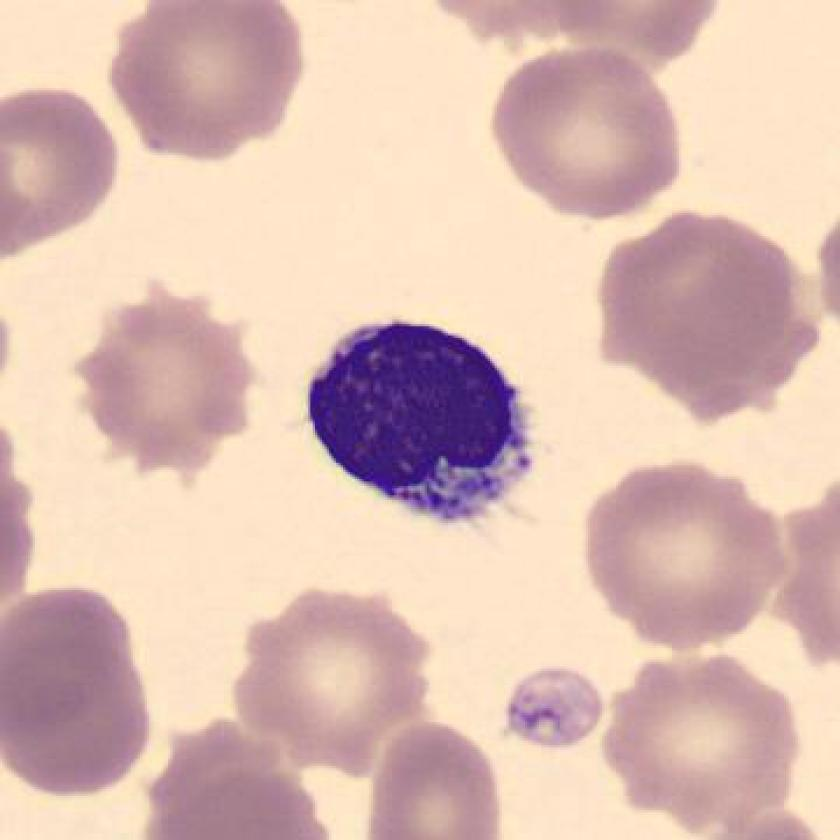lymphocyte: (298, 309, 550, 538)
